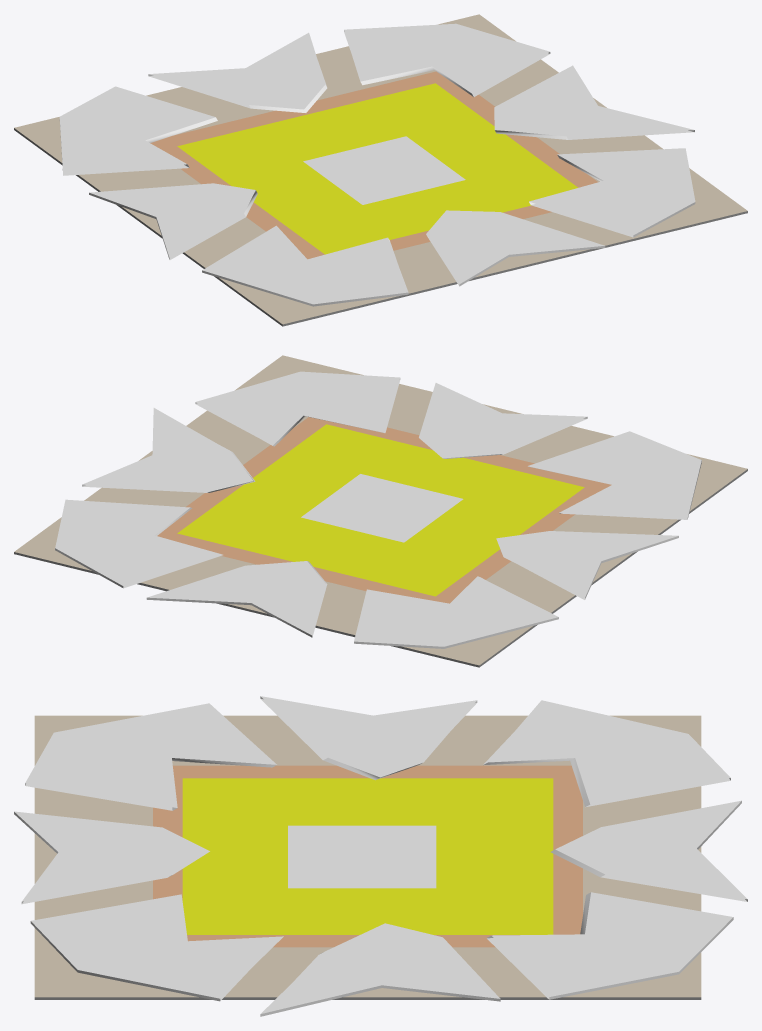
The model's file is Socle_Bloc.FBX.
3 renders of one model, top to bottom at view 1: azimuth 30°, elevation 25°; view 2: azimuth 150°, elevation 25°; view 3: azimuth 270°, elevation 25°, orthographic. The views are drawn at different scales.
Parts seen in each view (by area): view 1: Cylinder206, Box990, Plane017; view 2: Cylinder206, Box990, Plane017; view 3: Cylinder206, Box990, Plane017.
Boxes of the visible parts, <box> form: Cylinder206: <box>59,23,695,306</box>; Box990: <box>14,14,747,326</box>; Plane017: <box>303,136,465,204</box>; Cylinder206: <box>55,371,701,648</box>; Box990: <box>14,355,747,667</box>; Plane017: <box>301,474,463,542</box>; Cylinder206: <box>14,696,747,1016</box>; Box990: <box>34,715,701,999</box>; Plane017: <box>288,825,436,888</box>.
Bounding box in the file's own units: 200 × 2.62 × 195.
